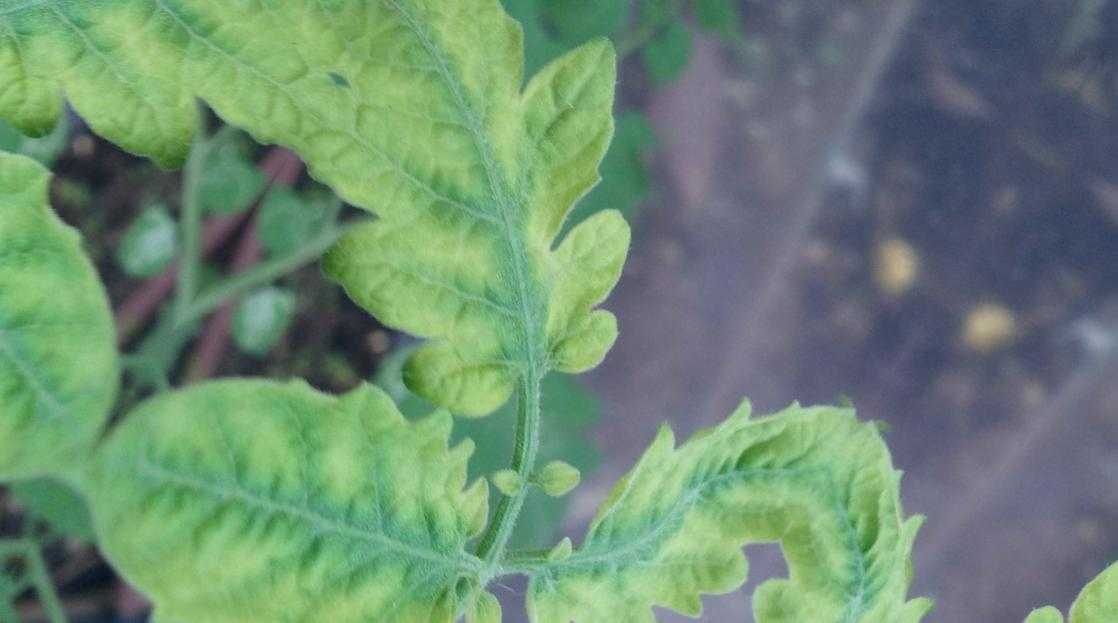Tomato leaf yellow virus: (219, 0, 749, 474), (23, 279, 538, 623), (483, 252, 896, 623)
